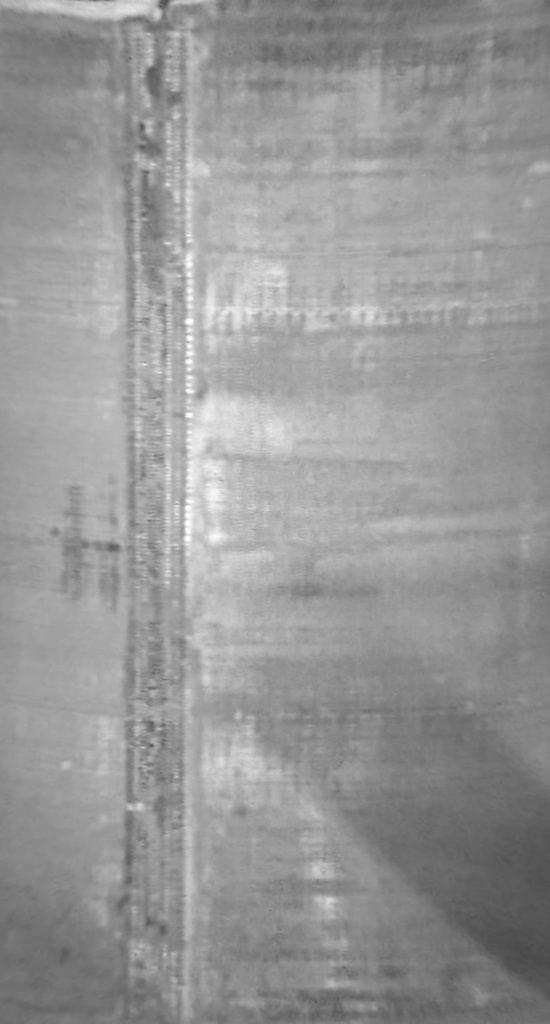splice: (111, 1, 208, 1020)
